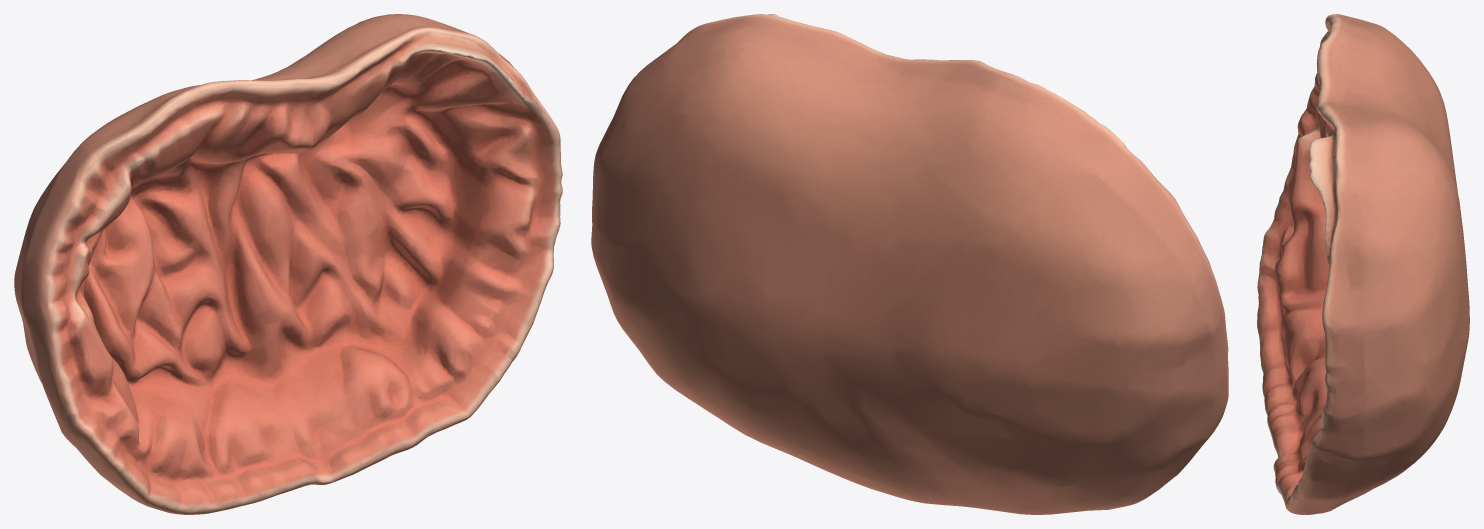
The model's file is Part_RugaeWallPanel.glb.
The picture shows the model from 3 angles, left to right: view 1: azimuth 30°, elevation 25°; view 2: azimuth 150°, elevation 25°; view 3: azimuth 270°, elevation 25°; orthographic projection. The views are drawn at different scales.
Size of the model in its own units: 1.9 by 1.37 by 0.6612.
1 material, 1 textured.
